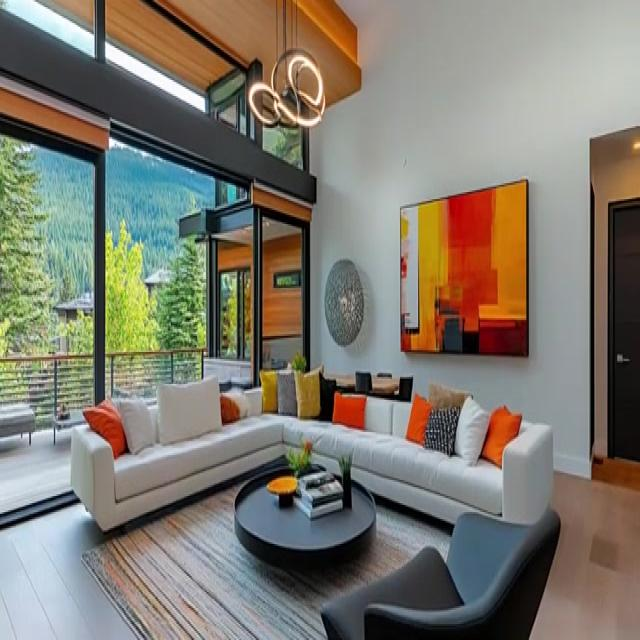door: (607, 198, 639, 462)
obstacle: (70, 367, 554, 531), (320, 505, 561, 638), (233, 464, 376, 564)
